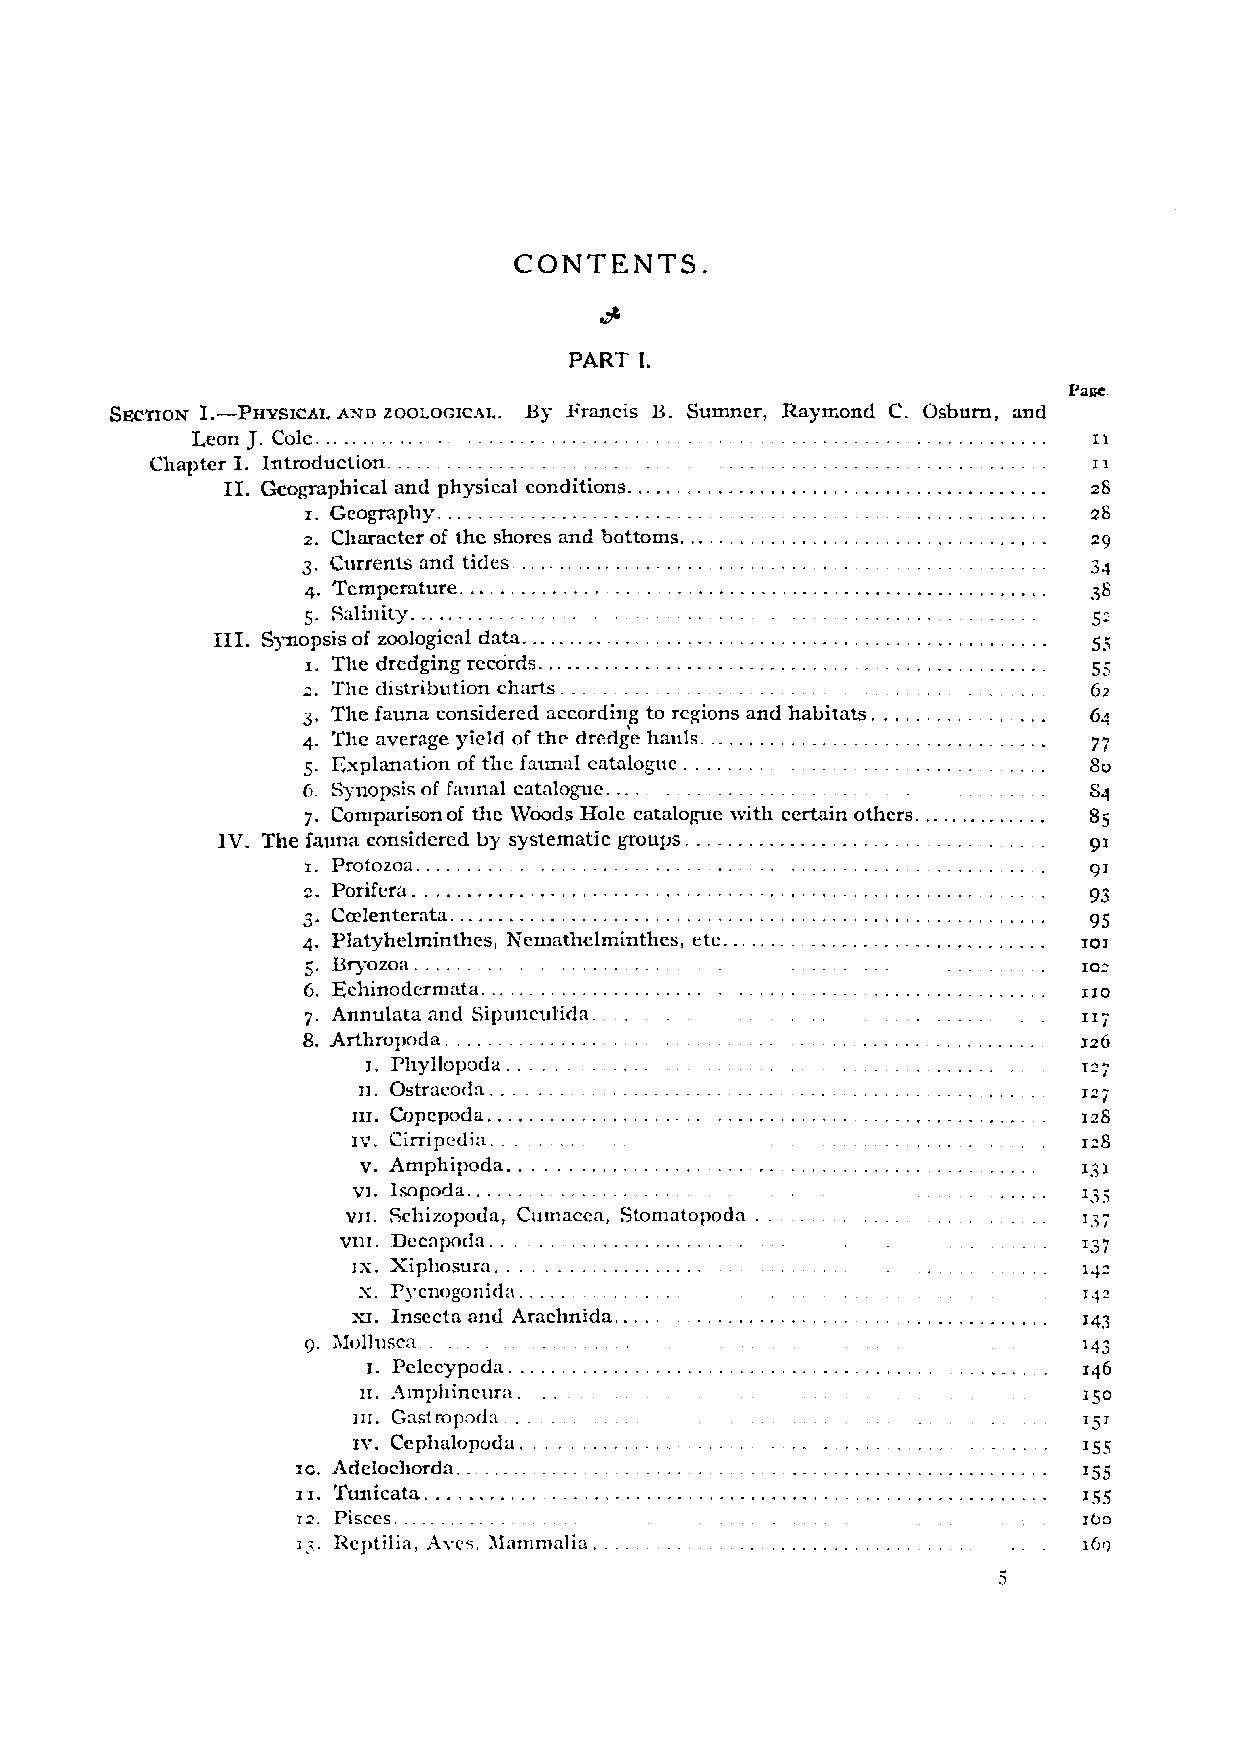TOC_chapter: (106, 401, 1052, 451), (305, 703, 866, 723), (305, 807, 913, 824), (220, 476, 631, 499), (298, 527, 678, 549), (217, 829, 679, 847), (299, 731, 698, 752), (301, 931, 723, 947), (303, 758, 674, 774), (342, 1208, 743, 1223), (295, 1537, 588, 1555), (205, 628, 517, 646), (305, 781, 603, 798), (349, 1310, 611, 1327), (146, 454, 386, 471), (301, 680, 560, 697), (301, 1007, 581, 1021), (301, 654, 535, 671), (349, 1431, 513, 1453), (302, 980, 480, 1000), (302, 554, 511, 570), (302, 578, 462, 599), (298, 905, 448, 925), (356, 1381, 511, 1400), (294, 1460, 456, 1478), (360, 1155, 507, 1174), (365, 1053, 502, 1074), (350, 1406, 497, 1425), (338, 1232, 483, 1251), (362, 1358, 502, 1377), (356, 1286, 517, 1302), (298, 1334, 416, 1355), (297, 506, 437, 523), (357, 1079, 482, 1098), (291, 1486, 420, 1503), (301, 855, 420, 874), (348, 1181, 464, 1200), (350, 1257, 494, 1272), (301, 1031, 442, 1045), (560, 349, 650, 372), (350, 1133, 488, 1147), (305, 605, 405, 625), (301, 880, 411, 898), (303, 956, 405, 974), (352, 1107, 480, 1122), (294, 1508, 395, 1526)
TOC_pagenumber: (1079, 1359, 1114, 1377), (1079, 1335, 1111, 1354), (1083, 1386, 1115, 1404), (1087, 428, 1117, 447), (1082, 1186, 1111, 1205), (1082, 1463, 1111, 1482), (1079, 1534, 1108, 1553), (1079, 1159, 1107, 1178), (1088, 633, 1113, 655), (1082, 1439, 1114, 1455), (1080, 1009, 1110, 1027), (1080, 1312, 1110, 1330), (1082, 1511, 1113, 1527), (1082, 1033, 1110, 1051), (1082, 1133, 1110, 1150), (1082, 1236, 1110, 1253), (1079, 985, 1111, 1000), (1082, 1490, 1111, 1506), (1083, 1057, 1110, 1075), (1082, 1084, 1108, 1102), (1088, 807, 1111, 827), (1088, 911, 1113, 930), (1082, 960, 1110, 976), (1084, 1410, 1110, 1428), (1082, 1108, 1111, 1123), (1088, 607, 1110, 627), (1082, 1212, 1108, 1228), (1087, 886, 1110, 905), (1082, 1286, 1110, 1300), (1090, 558, 1113, 576), (1080, 935, 1110, 949), (1088, 709, 1113, 725), (1088, 784, 1108, 803), (1082, 1261, 1107, 1276), (1092, 582, 1113, 600), (1088, 833, 1108, 849), (1091, 758, 1113, 773), (1091, 734, 1108, 752), (1088, 478, 1108, 493), (1090, 662, 1110, 676), (1090, 682, 1110, 697), (1088, 862, 1108, 876), (1091, 531, 1108, 548), (1088, 505, 1107, 519), (1088, 458, 1110, 468)
chapter: (509, 250, 707, 280)
content_pagenumber: (993, 1569, 1012, 1586)
